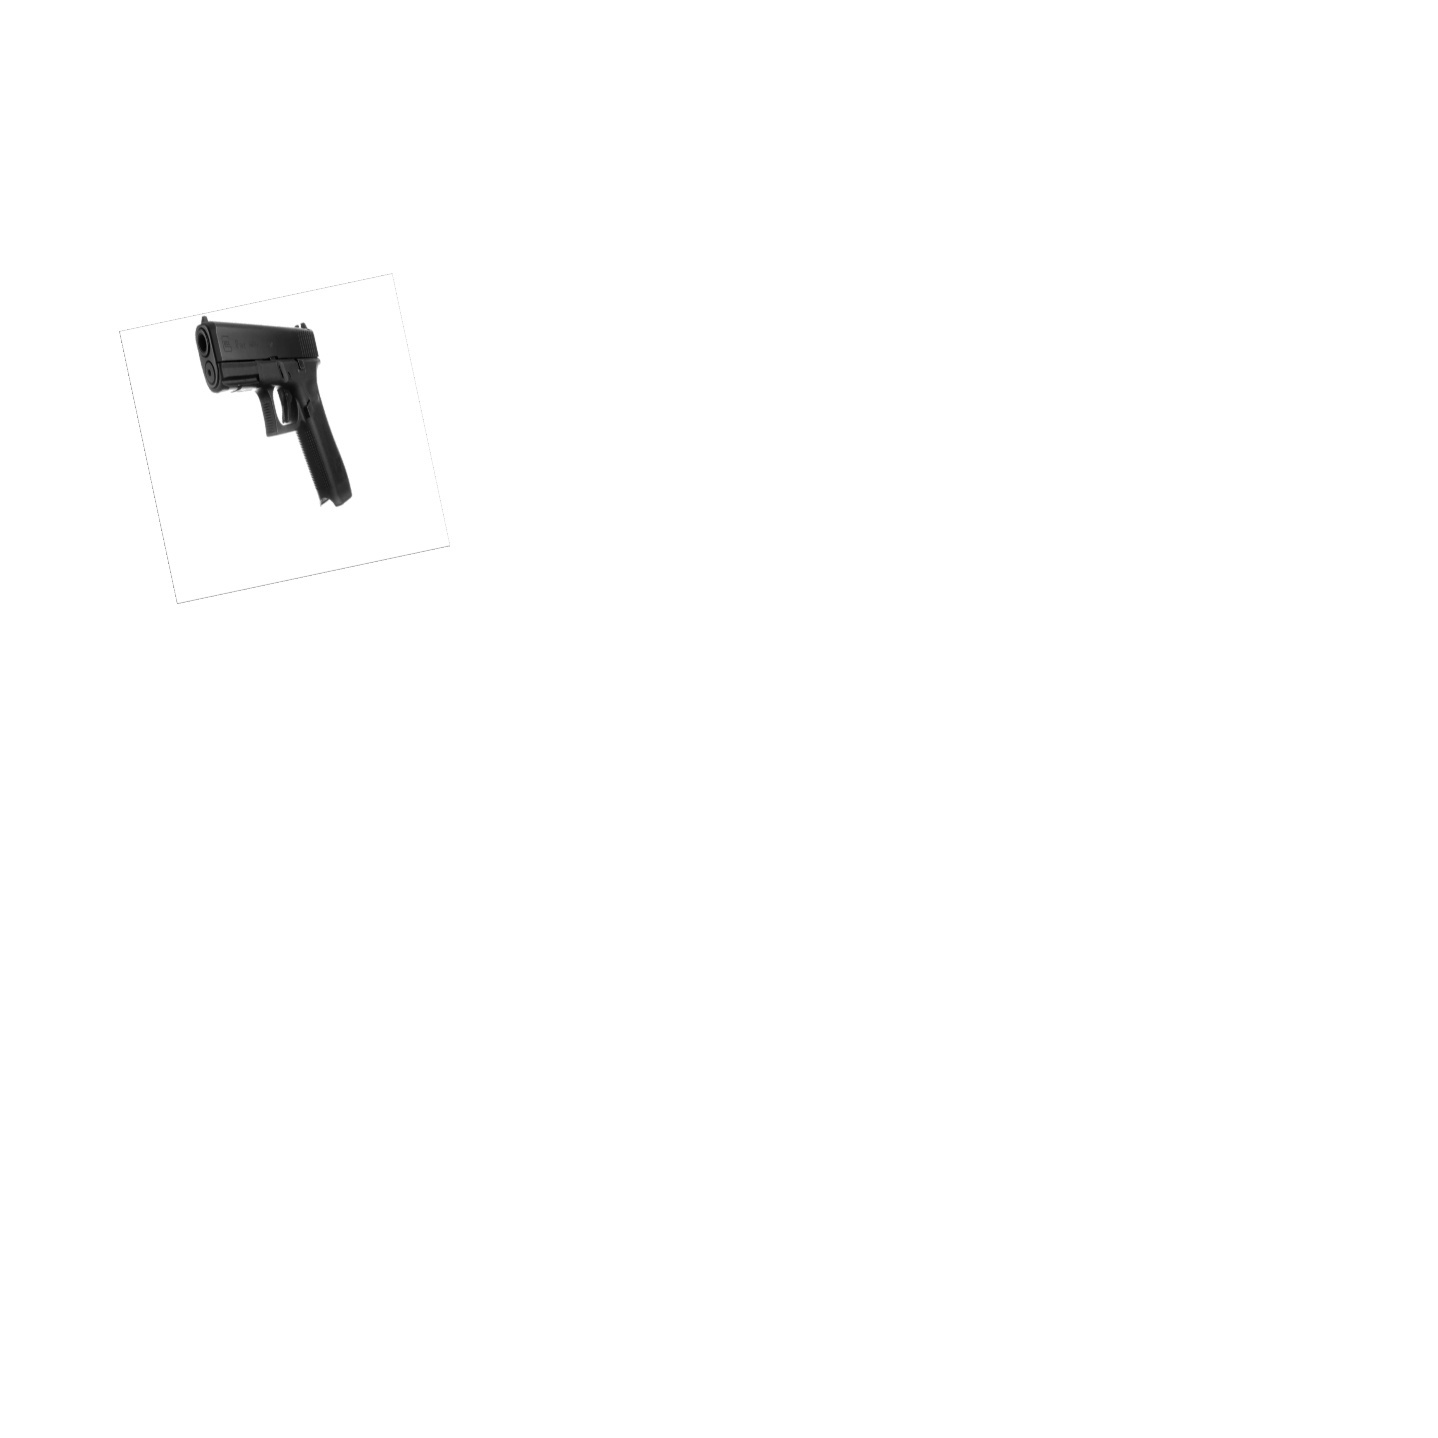gun: (182, 309, 359, 516)
